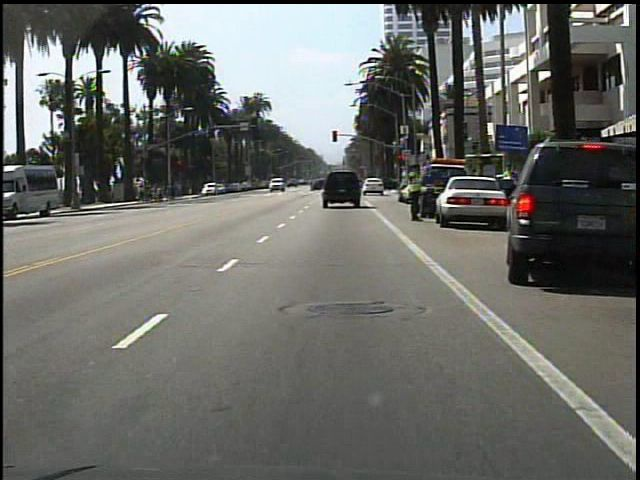person: (404, 165, 425, 225), (496, 158, 520, 191)
